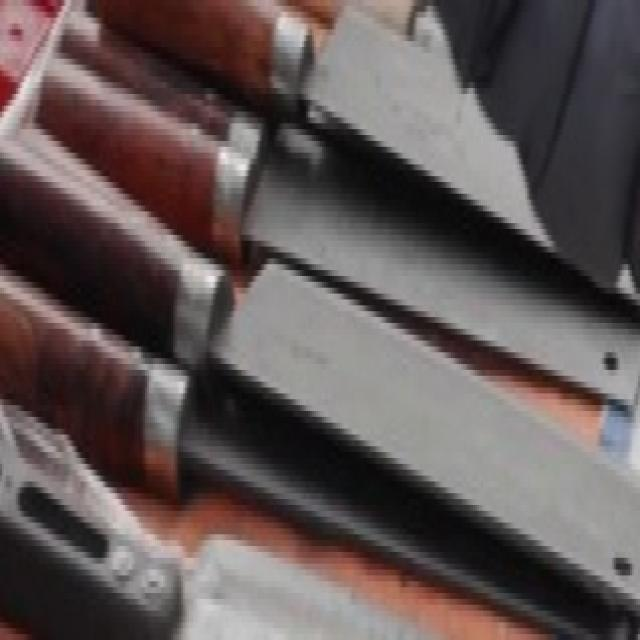knives: (8, 124, 640, 617)
